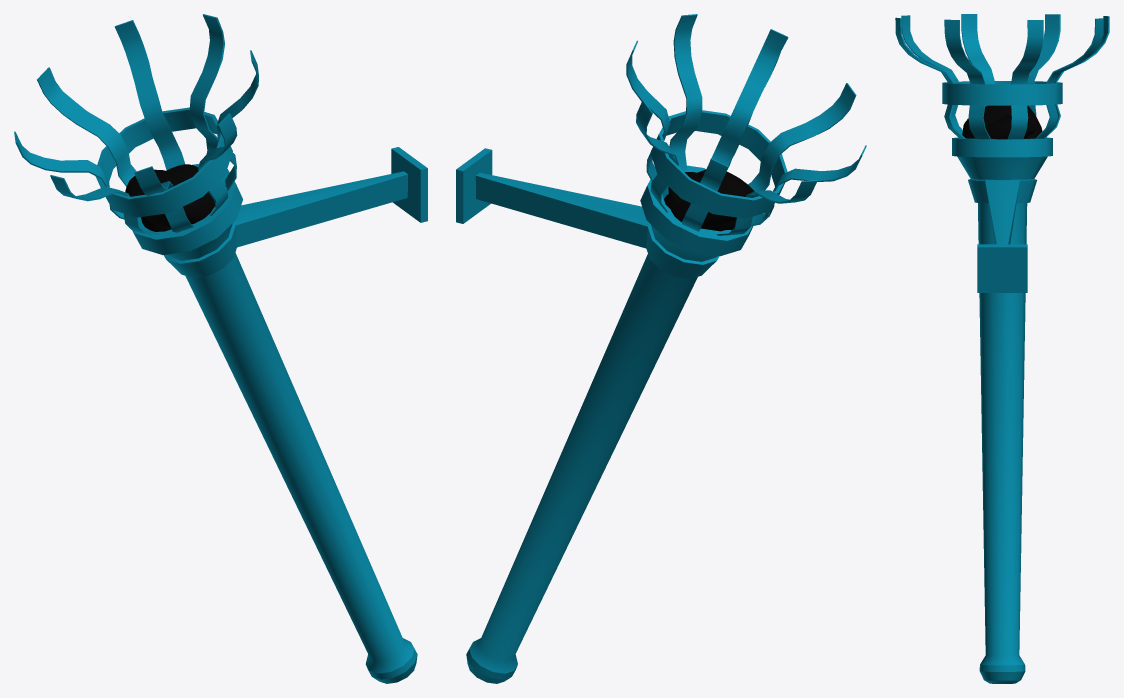
File: torch.glb
3 views of the same model, side by side, from view 1: azimuth 30°, elevation 25°; view 2: azimuth 150°, elevation 25°; view 3: azimuth 270°, elevation 25° (orthographic). The views are drawn at different scales.
Visible parts, largest first — view 1: Sphere_1; view 2: Sphere_1; view 3: Sphere_1.
Part boxes in pixels (bbox=[...]): Sphere_1: bbox=[14, 14, 427, 683]; Sphere_1: bbox=[456, 14, 866, 683]; Sphere_1: bbox=[895, 14, 1109, 683].
Bounding box in the file's own units: 0.4489 × 0.7822 × 0.2538.
